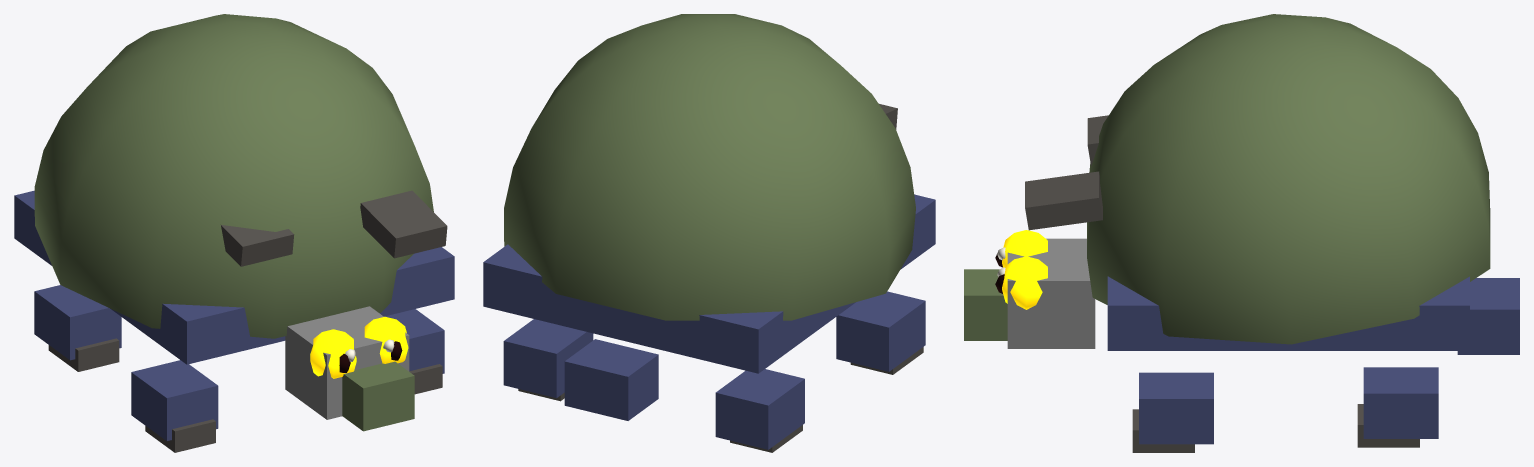
Rendered from IpsTurtleA.glb.
3 renders of one model, left to right at view 1: azimuth 30°, elevation 25°; view 2: azimuth 150°, elevation 25°; view 3: azimuth 270°, elevation 25°, orthographic. The views are drawn at different scales.
Parts seen in each view (by area): view 1: IpsTurtleBody; view 2: IpsTurtleBody; view 3: IpsTurtleBody.
Boxes of the visible parts, left/top/right/bottom form: IpsTurtleBody: left=14, top=14, right=454, bottom=452; IpsTurtleBody: left=483, top=14, right=935, bottom=452; IpsTurtleBody: left=964, top=14, right=1519, bottom=452.
Bounding box in the file's own units: 0.6788 × 0.6189 × 0.89.
